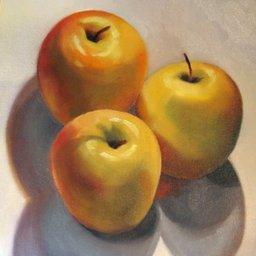apple: (49, 110, 165, 238), (136, 57, 242, 179), (35, 9, 146, 121)
